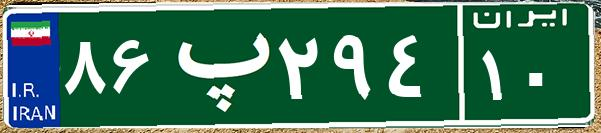0: (525, 38, 570, 115)
1: (475, 38, 525, 113)
2: (273, 28, 330, 110)
4: (385, 28, 445, 110)
6: (110, 28, 158, 105)
8: (57, 26, 110, 107)
9: (330, 28, 385, 110)
پ: (158, 15, 273, 115)
